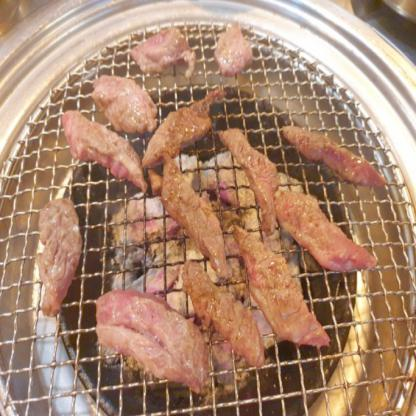Carne: (233, 224, 335, 347), (159, 155, 234, 278), (280, 188, 374, 271), (62, 100, 150, 185), (189, 279, 272, 364), (224, 122, 288, 215), (142, 93, 219, 156), (42, 200, 83, 310)
